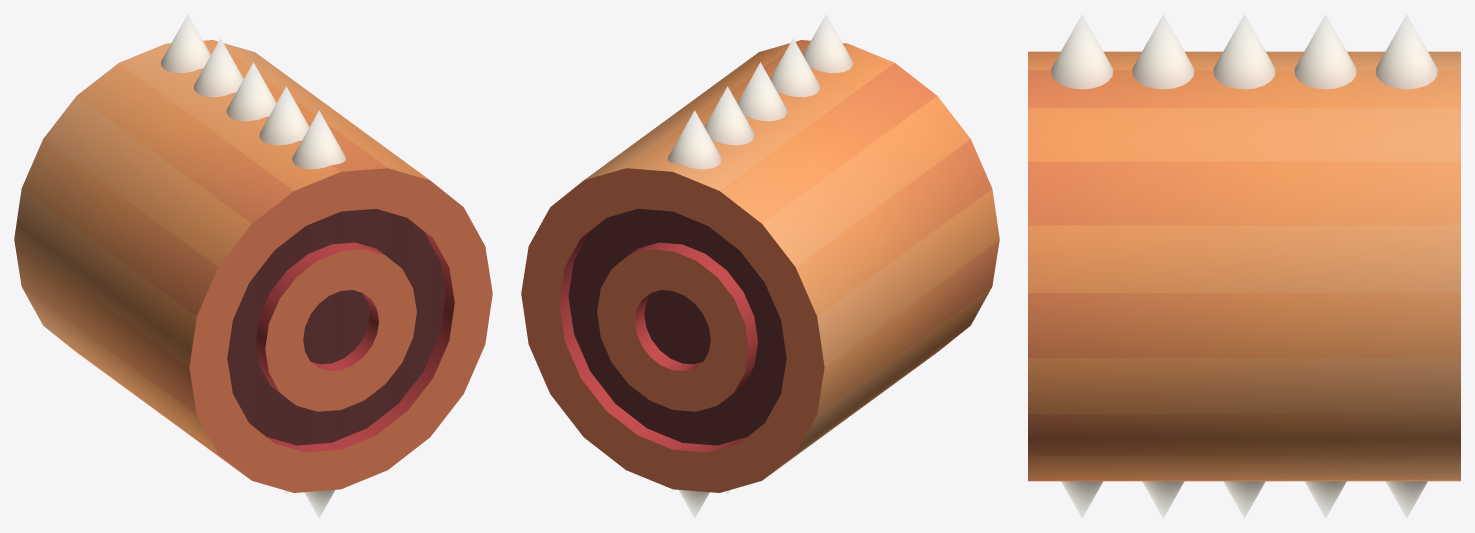
Rendered from RollSpike.fbx.
3 renders of one model, left to right at view 1: azimuth 30°, elevation 25°; view 2: azimuth 150°, elevation 25°; view 3: azimuth 270°, elevation 25°, orthographic. The views are drawn at different scales.
Visible parts, largest first — view 1: Roll, SpikeOne, SpikeTwo, SpikeThree, SpikeFive, SpikeFour; view 2: Roll, SpikeFive, SpikeFour, SpikeThree, SpikeOne, SpikeTwo; view 3: Roll, SpikeThree, SpikeOne, SpikeTwo, SpikeFour, SpikeFive, SpikeDownFive, SpikeDownOne, SpikeDownThree, SpikeDownTwo, SpikeDownFour.
Boxes of the visible parts, x1,y1,x2,y2 form: Roll: (14, 40, 492, 492); SpikeOne: (292, 110, 345, 169); SpikeTwo: (259, 86, 309, 145); SpikeThree: (226, 62, 276, 121); SpikeFive: (161, 14, 210, 72); SpikeFour: (194, 38, 243, 97); Roll: (521, 40, 999, 492); SpikeFive: (668, 110, 721, 169); SpikeFour: (704, 86, 754, 145); SpikeThree: (737, 62, 787, 121); SpikeOne: (803, 14, 852, 72); SpikeTwo: (770, 38, 819, 97); Roll: (1028, 51, 1460, 481); SpikeThree: (1213, 14, 1275, 89); SpikeOne: (1051, 14, 1113, 89); SpikeTwo: (1132, 14, 1194, 89); SpikeFour: (1294, 14, 1356, 89); SpikeFive: (1375, 14, 1437, 89); SpikeDownFive: (1385, 481, 1427, 518); SpikeDownOne: (1061, 481, 1103, 518); SpikeDownThree: (1223, 481, 1265, 518); SpikeDownTwo: (1142, 481, 1184, 518); SpikeDownFour: (1304, 481, 1346, 518).
Bounding box in the file's own units: 160 × 206 × 160.
